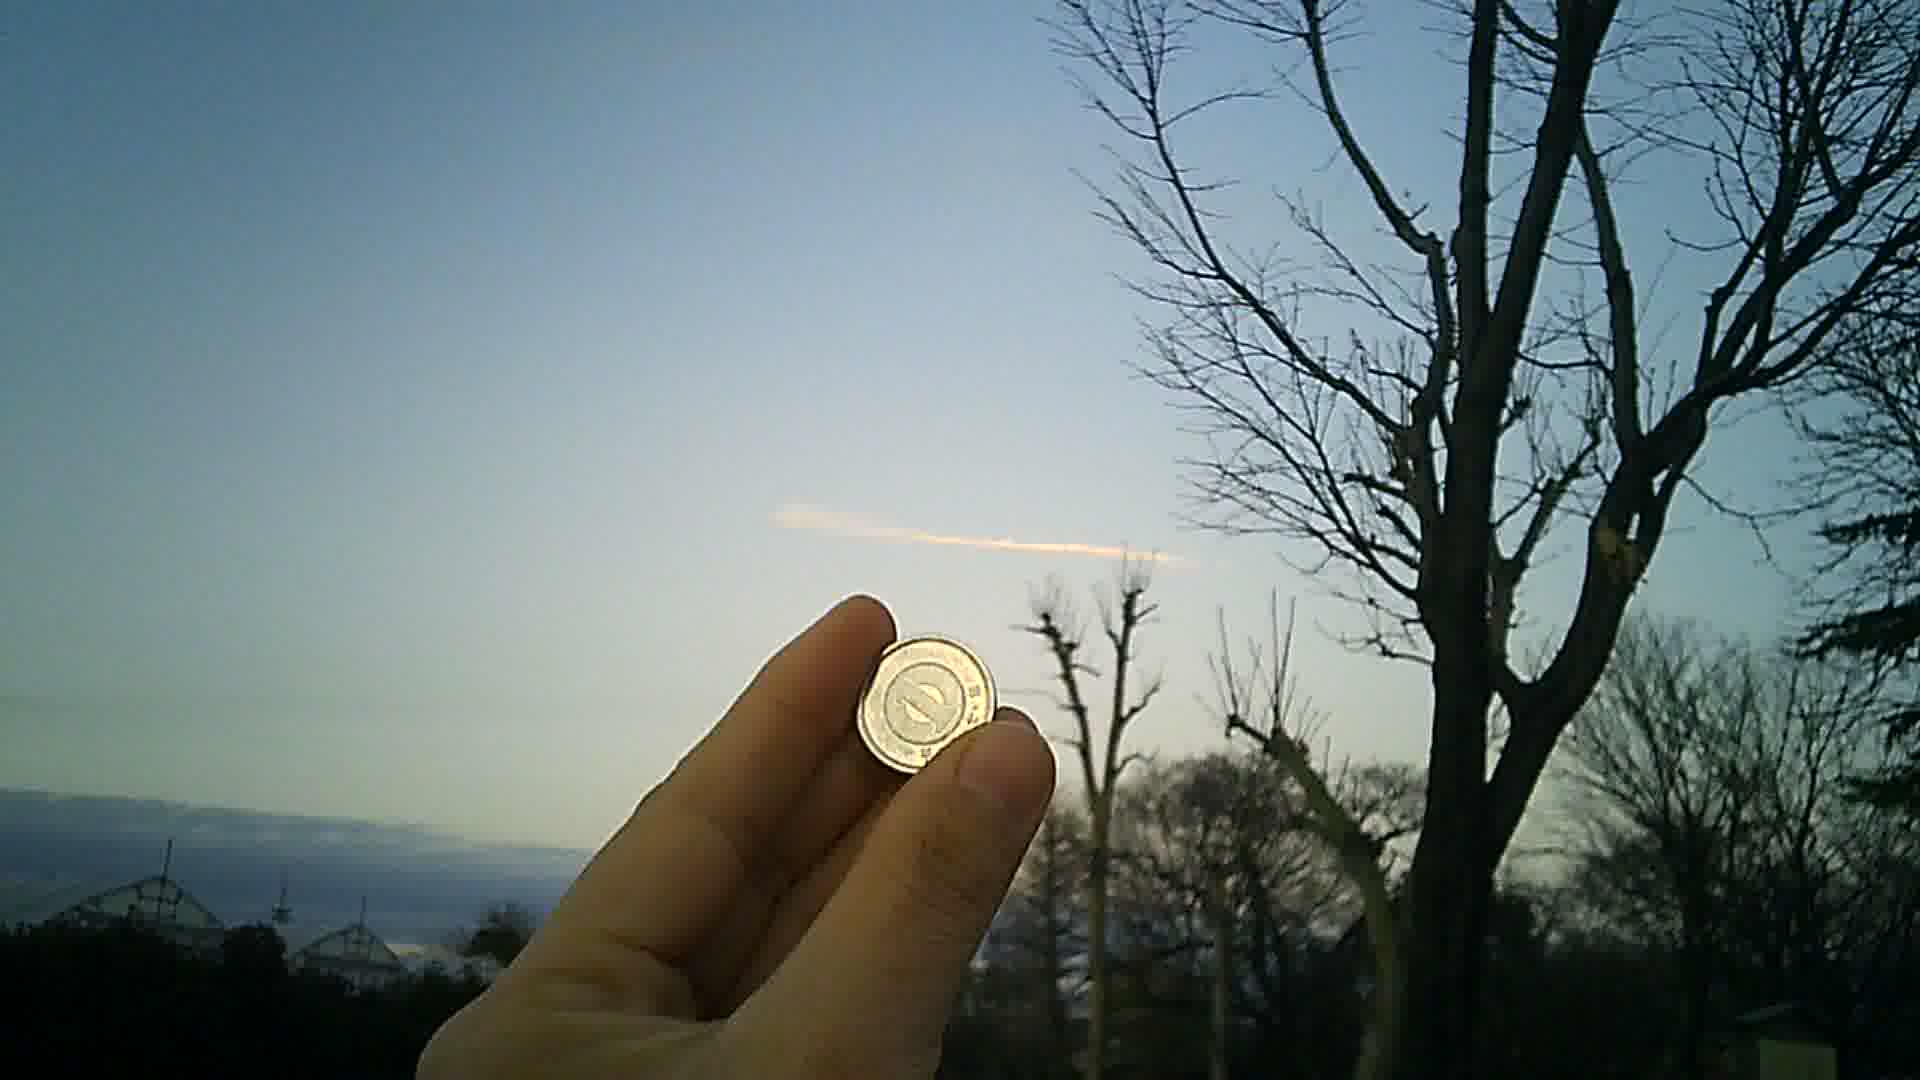1 Yen: (853, 626, 1001, 786)
